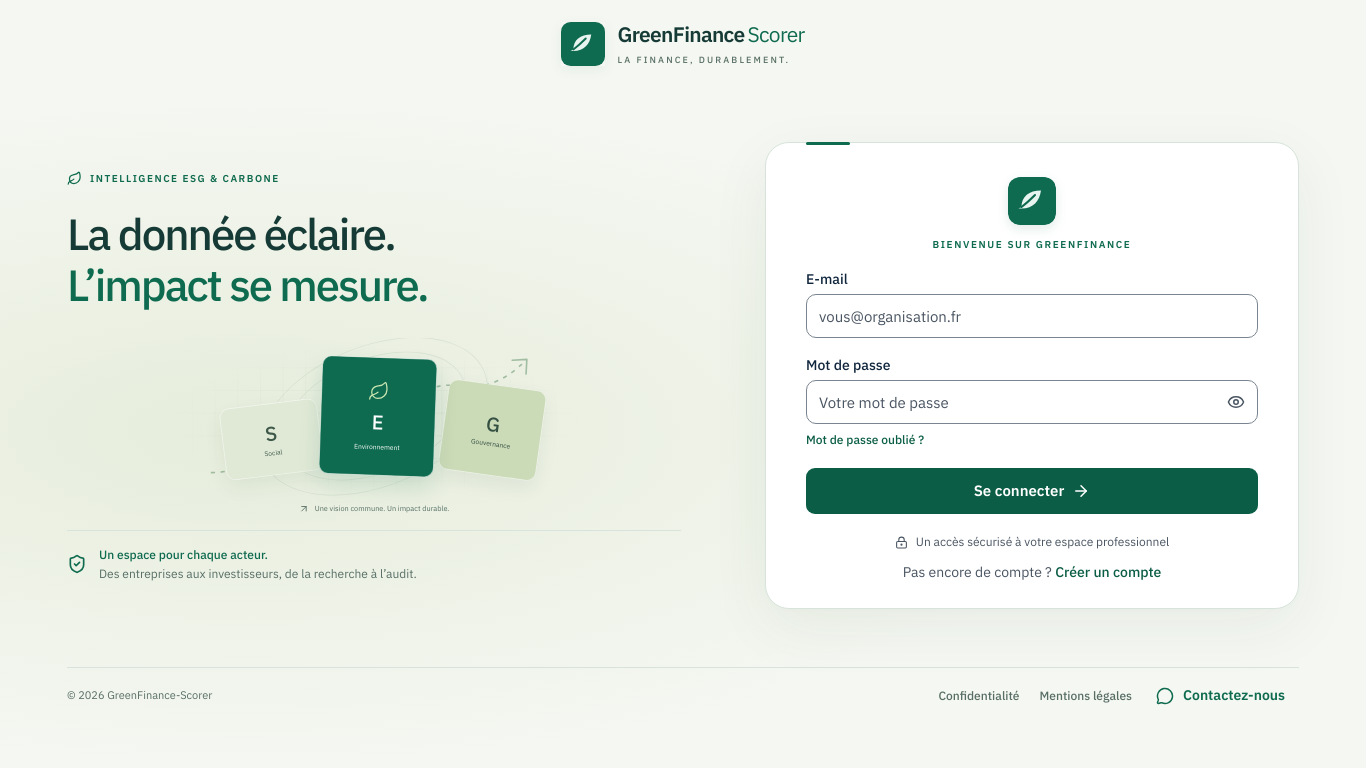
Test case: LoginPage › valide les champs avant tout appel réseau
Click the button "Se connecter": (1032, 491) [806,468,1258,514]
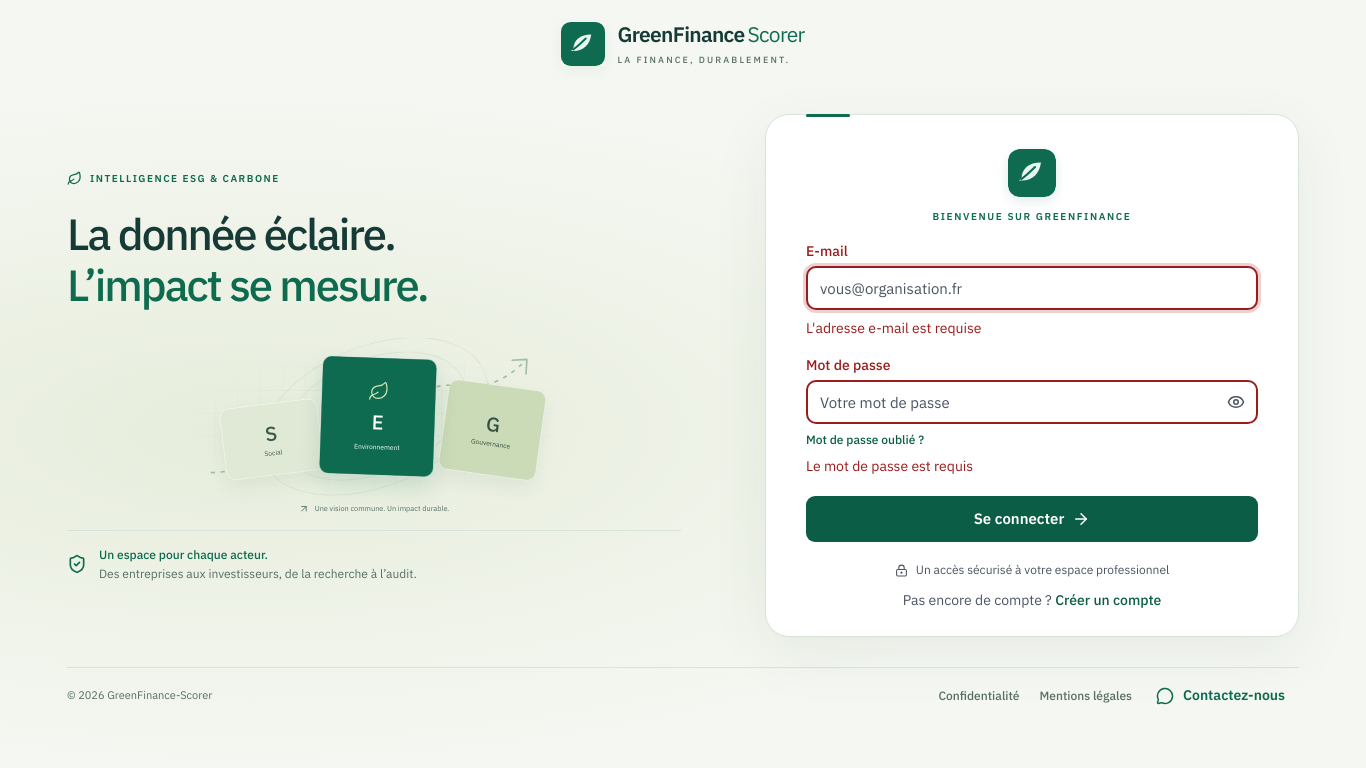
Check: the text "L'adresse e-mail est requise" is shown, box [806,319,982,337]
Check: the text "Le mot de passe est requis" is shown, box [806,457,973,475]
